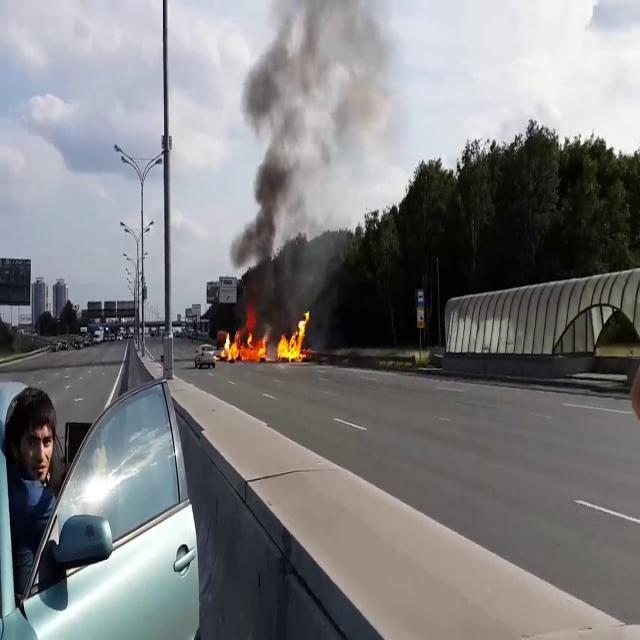Fire: (221, 310, 311, 364)
Smoke: (234, 0, 386, 286)
